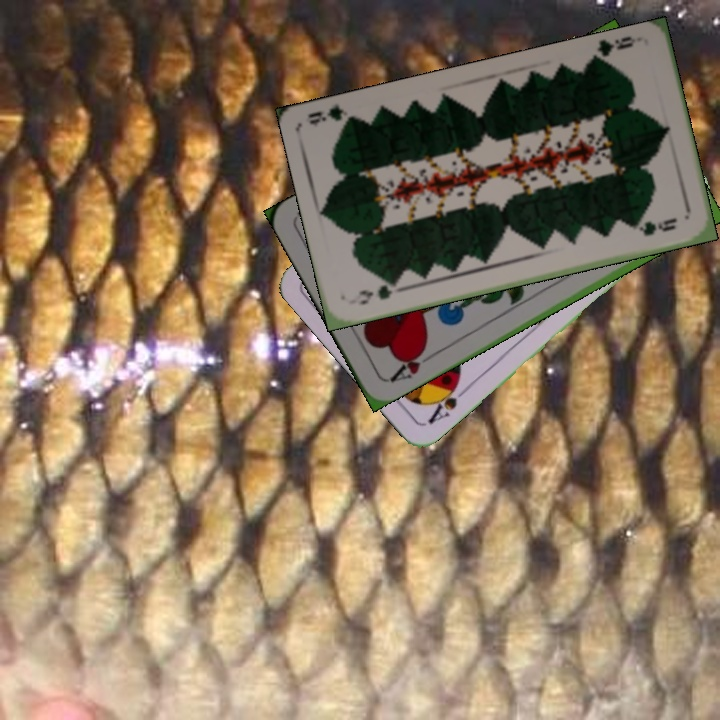G9: (587, 32, 644, 66), (355, 278, 405, 307)
HA: (385, 343, 438, 386)
SA: (423, 376, 472, 427)
